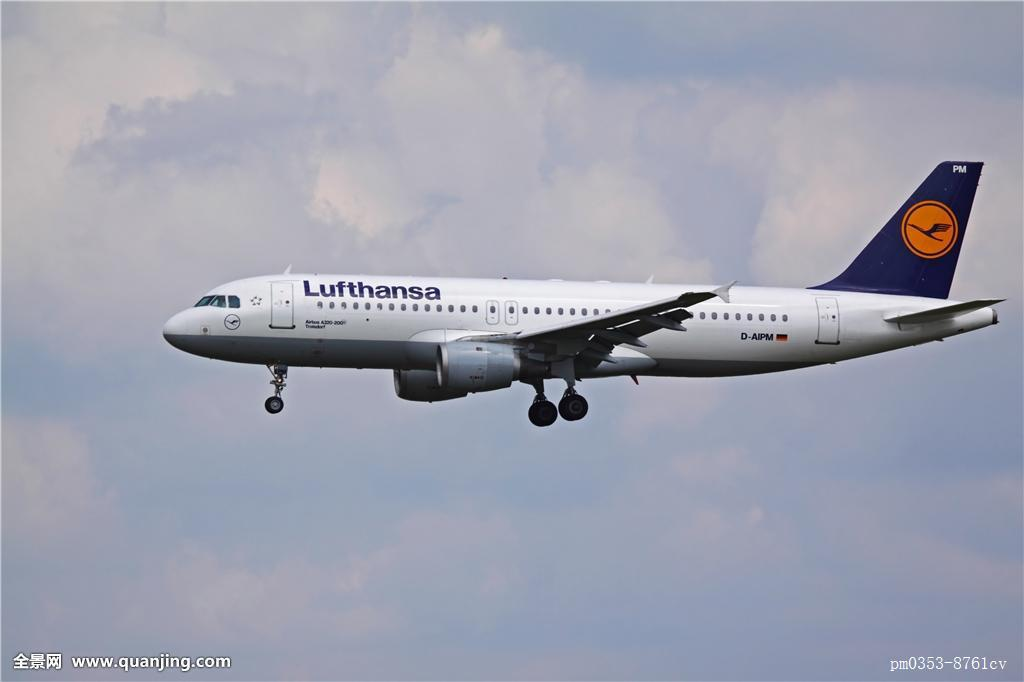airplane: (156, 161, 1007, 438)
